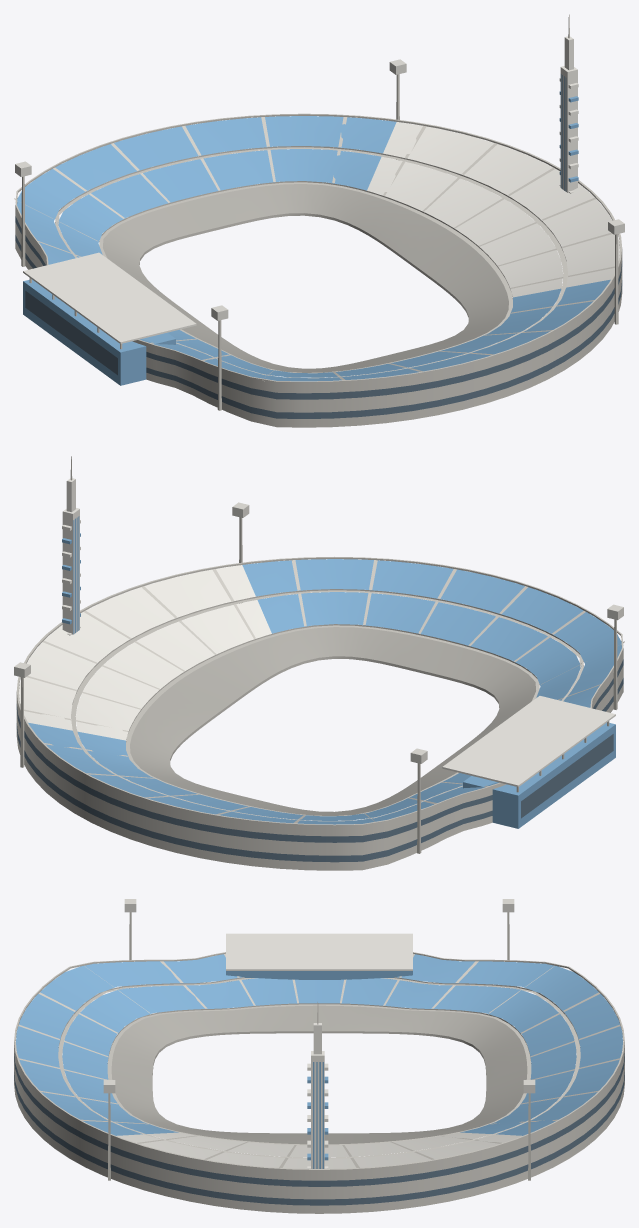
File: montevideo-estadio-centenario.glb
The picture shows the model from 3 angles, top to bottom: view 1: azimuth 30°, elevation 25°; view 2: azimuth 150°, elevation 25°; view 3: azimuth 270°, elevation 25°; orthographic projection. The views are drawn at different scales.
Visible parts, largest first — view 1: Estadio Centenario; view 2: Estadio Centenario; view 3: Estadio Centenario.
Part boxes in pixels (left/top/right/bottom): Estadio Centenario: left=14, top=14, right=624, bottom=427; Estadio Centenario: left=14, top=456, right=624, bottom=870; Estadio Centenario: left=14, top=899, right=624, bottom=1213.
Bounding box in the file's own units: 247 × 100 × 268.
